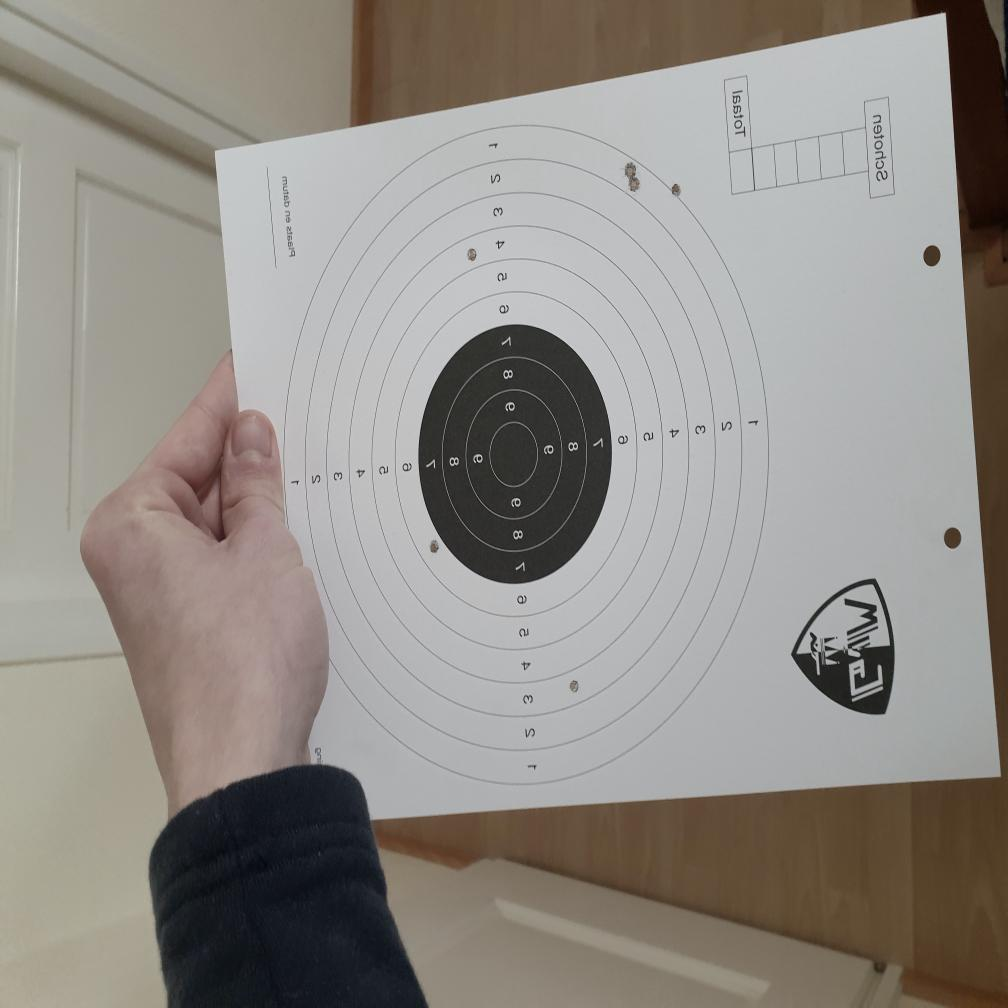0: (671, 184, 681, 197)
1: (627, 177, 640, 192), (624, 162, 636, 178)
3: (568, 680, 580, 694)
4: (466, 248, 478, 262)
6: (429, 540, 440, 554)
Target: (282, 124, 769, 791)
black_contour: (418, 323, 612, 586)
